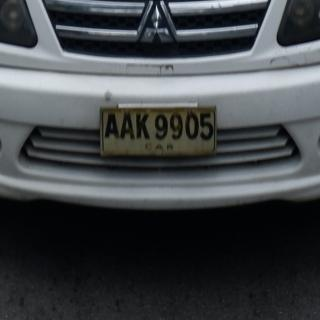license: (102, 109, 217, 158)
